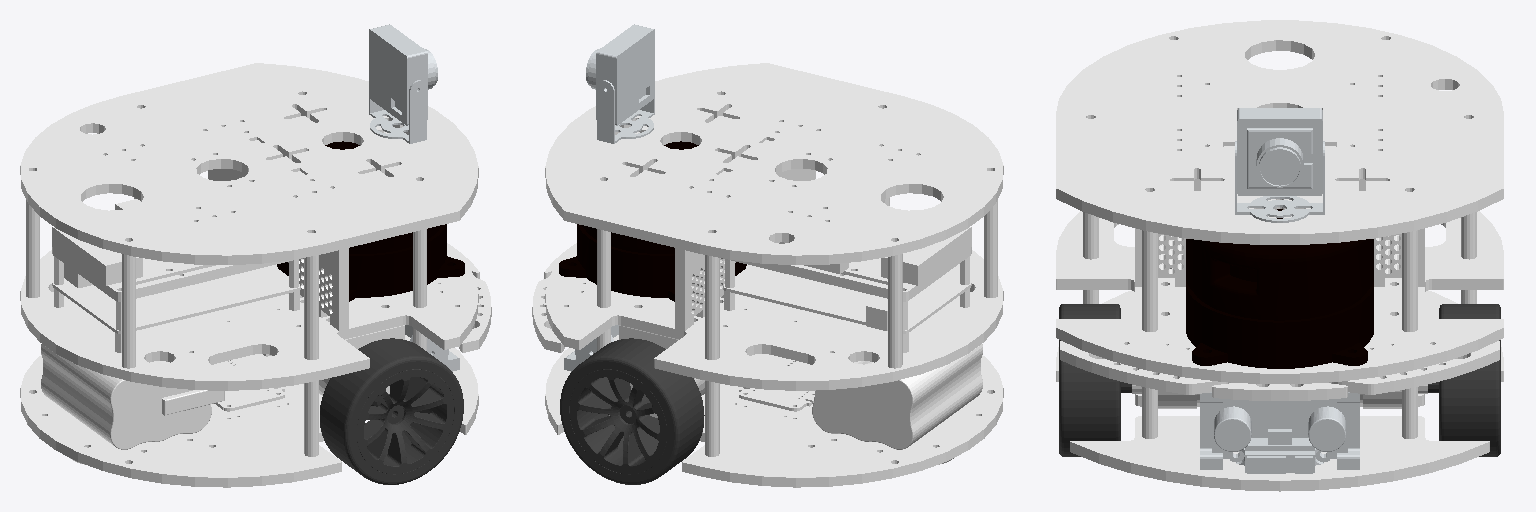
URDF robot description (robot_description):
<?xml version="1.0" encoding="utf-8"?>
<!-- This URDF was automatically created by SolidWorks to URDF Exporter! Originally created by [author] ([email redacted]) 
     Commit Version: 1.6.0-4-g7f85cfe  Build Version: 1.6.7995.38578
     For more information, please see http://wiki.ros.org/sw_urdf_exporter -->
<robot
  name="robot_description">
  <link name="base_footprint">
        <visual>
            <geometry>
                <sphere radius="0.001" />
            </geometry>
        </visual>
  </link>

  <link
    name="base_link">
    <inertial>
      <origin
        xyz="-0.038216 -8.44E-05 0.027327"
        rpy="0 0 0" />
      <mass
        value="1.4603" />
      <inertia
        ixx="0.0015601"
        ixy="-3.2373E-06"
        ixz="-5.9153E-14"
        iyy="0.0019288"
        iyz="9.6369E-14"
        izz="0.0032508" />
    </inertial>
    <visual>
      <origin
        xyz="0 0 0"
        rpy="0 0 0" />
      <geometry>
        <mesh
          filename="package://robot_description/meshes/base_link.STL" />
      </geometry>
      <material
        name="">
        <color
          rgba="1 1 1 1" />
      </material>
    </visual>
    <collision>
      <origin
        xyz="0 0 0"
        rpy="0 0 0" />
      <geometry>
        <mesh
          filename="package://robot_description/meshes/base_link.STL" />
      </geometry>
    </collision>
  </link>
  <joint name="base_link2base_footprint" type="fixed">
        <parent link="base_footprint" />
        <child link="base_link" />
        <origin xyz="0 0 0.05" />
  </joint>

  <link
    name="left wheel_Link">
    <inertial>
      <origin
        xyz="0 0.00038056 0"
        rpy="0 0 0" />
      <mass
        value="0.052388" />
      <inertia
        ixx="2.0994E-05"
        ixy="-4.4945E-23"
        ixz="-2.9089E-21"
        iyy="3.6342E-05"
        iyz="-7.6008E-22"
        izz="2.0994E-05" />
    </inertial>
    <visual>
      <origin
        xyz="0 0 0"
        rpy="0 0 0" />
      <geometry>
        <mesh
          filename="package://robot_description/meshes/left wheel_Link.STL" />
      </geometry>
      <material
        name="">
        <color
          rgba="0.29804 0.29804 0.29804 1" />
      </material>
    </visual>
    <collision>
      <origin
        xyz="0 0 0"
        rpy="0 0 0" />
      <geometry>
        <mesh
          filename="package://robot_description/meshes/left wheel_Link.STL" />
      </geometry>
    </collision>
  </link>
  <joint
    name="wheel_1_joint"
    type="continuous">
    <origin
      xyz="0 0.0805 0"
      rpy="0 0 0" />
    <parent
      link="base_link" />
    <child
      link="left wheel_Link" />
    <axis
      xyz="0 -1 0" />
  </joint>
  <link
    name="right wheel_Link">
    <inertial>
      <origin
        xyz="0 -0.000380563343778464 0"
        rpy="0 0 0" />
      <mass
        value="0.0523884928070869" />
      <inertia
        ixx="2.0993992477975E-05"
        ixy="1.04563423025786E-21"
        ixz="-4.90757686064805E-21"
        iyy="3.63419758974315E-05"
        iyz="-3.87238137038941E-22"
        izz="2.0993992477975E-05" />
    </inertial>
    <visual>
      <origin
        xyz="0 0 0"
        rpy="0 0 0" />
      <geometry>
        <mesh
          filename="package://robot_description/meshes/right wheel_Link.STL" />
      </geometry>
      <material
        name="">
        <color
          rgba="0.298039215686275 0.298039215686275 0.298039215686275 1" />
      </material>
    </visual>
    <collision>
      <origin
        xyz="0 0 0"
        rpy="0 0 0" />
      <geometry>
        <mesh
          filename="package://robot_description/meshes/right wheel_Link.STL" />
      </geometry>
    </collision>
  </link>
  <joint
    name="wheel_0_joint"
    type="continuous">
    <origin
      xyz="0 -0.0805 0"
      rpy="0 0 0" />
    <parent
      link="base_link" />
    <child
      link="right wheel_Link" />
    <axis
      xyz="0 1 0" />
  </joint>
  <link
    name="laser_link">
    <inertial>
      <origin
        xyz="-0.000209603604888892 0.000120725179128181 -0.0130198762076914"
        rpy="0 0 0" />
      <mass
        value="0.271699069265791" />
      <inertia
        ixx="0.000176953743407116"
        ixy="-9.81784129253812E-07"
        ixz="7.40933729651027E-07"
        iyy="0.000175815280510695"
        iyz="-4.25610950774227E-07"
        izz="0.000216450514269569" />
    </inertial>
    <visual>
      <origin
        xyz="0 0 0"
        rpy="0 0 0" />
      <geometry>
        <mesh
          filename="package://robot_description/meshes/laser_Link.STL" />
      </geometry>
      <material
        name="">
        <color
          rgba="0.0588235294117647 0.00784313725490196 0 1" />
      </material>
    </visual>
    <collision>
      <origin
        xyz="0 0 0"
        rpy="0 0 0" />
      <geometry>
        <mesh
          filename="package://robot_description/meshes/laser_Link.STL" />
      </geometry>
    </collision>
  </link>
  <joint
    name="laser_Joint"
    type="fixed">
    <origin
      xyz="0.030241 0 0.078"
      rpy="0 0 0" />
    <parent
      link="base_link" />
    <child
      link="laser_link" />
    <axis
      xyz="0 0 0" />
  </joint>
  <link
    name="imu_link">
    <inertial>
      <origin
        xyz="-0.0118048114611219 0.00476237507254301 0.0161629596094779"
        rpy="0 0 1.570795"/>
      <mass
        value="0.11536190896587" />
      <inertia
        ixx="4.23390940100757E-05"
        ixy="-5.04799743132961E-06"
        ixz="3.27071760564096E-06"
        iyy="0.000102102543007273"
        iyz="-1.42151378488866E-06"
        izz="0.000142119092712528" />
    </inertial>
    <visual>
      <origin
        xyz="0 0 0"
        rpy="0 0 0" />
      <geometry>
        <mesh
          filename="package://robot_description/meshes/imu_Link.STL" />
      </geometry>
      <material
        name="">
        <color
          rgba="1 1 1 1" />
      </material>
    </visual>
    <collision>
      <origin
        xyz="0 0 0"
        rpy="0 0 0" />
      <geometry>
        <mesh
          filename="package://robot_description/meshes/imu_Link.STL" />
      </geometry>
    </collision>
  </link>
  <joint
    name="imu_Joint"
    type="fixed">
    <origin
      xyz="-0.069143 -0.00060249 0.0496"
      rpy="0 0 0" />
    <parent
      link="base_link" />
    <child
      link="imu_link" />
    <axis
      xyz="0 0 0" />
  </joint>
  <link
    name="camera_Link">
    <inertial>
      <origin
        xyz="-0.0134865628133561 1.27245263181684E-05 -0.000996029858569822"
        rpy="0 0 0" />
      <mass
        value="0.051766418456575" />
      <inertia
        ixx="9.97264271995822E-06"
        ixy="2.08531930861835E-08"
        ixz="2.14894522402641E-08"
        iyy="6.12375111728941E-06"
        iyz="2.5961088858632E-08"
        izz="6.47430815164643E-06" />
    </inertial>
    <visual>
      <origin
        xyz="0 0 0"
        rpy="0 0 0" />
      <geometry>
        <mesh
          filename="package://robot_description/meshes/camera_Link.STL" />
      </geometry>
      <material
        name="">
        <color
          rgba="0.894117647058823 0.913725490196078 0.929411764705882 1" />
      </material>
    </visual>
    <collision>
      <origin
        xyz="0 0 0"
        rpy="0 0 0" />
      <geometry>
        <mesh
          filename="package://robot_description/meshes/camera_Link.STL" />
      </geometry>
    </collision>
  </link>
  <joint
    name="camera"
    type="fixed">
    <origin
      xyz="0.0655 0 0.13"
      rpy="0 0 0" />
    <parent
      link="base_link" />
    <child
      link="camera_Link" />
    <axis
      xyz="0 0 0" />
  </joint>
  <link
    name="ultrasonic_Link">
    <inertial>
      <origin
        xyz="-0.0140272334793631 -1.11605403516571E-05 -0.00464300862011404"
        rpy="0 0 0" />
      <mass
        value="0.0615432903089949" />
      <inertia
        ixx="1.27424335268755E-05"
        ixy="4.7683287909434E-09"
        ixz="-5.3359935632812E-07"
        iyy="5.84778747686444E-06"
        iyz="-2.54153829450142E-10"
        izz="1.01881337457794E-05" />
    </inertial>
    <visual>
      <origin
        xyz="0 0 0"
        rpy="0 0 0" />
      <geometry>
        <mesh
          filename="package://robot_description/meshes/ultrasonic_Link.STL" />
      </geometry>
      <material
        name="">
        <color
          rgba="0.894117647058823 0.913725490196078 0.929411764705882 1" />
      </material>
    </visual>
    <collision>
      <origin
        xyz="0 0 0"
        rpy="0 0 0" />
      <geometry>
        <mesh
          filename="package://robot_description/meshes/ultrasonic_Link.STL" />
      </geometry>
    </collision>
  </link>
  <joint
    name="ultrasonic_Joint"
    type="fixed">
    <origin
      xyz="0.072976 0 0.00825"
      rpy="0 0 0" />
    <parent
      link="base_link" />
    <child
      link="ultrasonic_Link" />
    <axis
      xyz="1 0 0" />
    <limit
      lower="0"
      upper="0"
      effort="0"
      velocity="0" />
  </joint>
</robot>

--- What the picture shows (computed from the rendered views, not written in the file) ---
Views: 3 orthographic renders of the robot side by side, from view 1: azimuth 30°, elevation 25°; view 2: azimuth 150°, elevation 25°; view 3: azimuth 270°, elevation 25°.
Model robot_description with 8 links and 7 joints (2 continuous, 5 fixed), rooted at base_footprint, posed every joint at zero.
Visible links, largest first — view 1: base_link, right wheel_Link, imu_link, camera_Link, laser_link, ultrasonic_Link; view 2: base_link, left wheel_Link, imu_link, camera_Link, laser_link, ultrasonic_Link; view 3: base_link, laser_link, ultrasonic_Link, camera_Link, right wheel_Link, left wheel_Link.
Boxes of the visible links, left/top/right/bottom form: base_link: left=20, top=63, right=491, bottom=487; right wheel_Link: left=320, top=338, right=463, bottom=484; imu_link: left=52, top=199, right=300, bottom=352; camera_Link: left=369, top=24, right=437, bottom=143; laser_link: left=277, top=141, right=464, bottom=301; ultrasonic_Link: left=405, top=325, right=459, bottom=371; base_link: left=532, top=63, right=1003, bottom=487; left wheel_Link: left=560, top=338, right=704, bottom=484; imu_link: left=723, top=227, right=971, bottom=352; camera_Link: left=586, top=24, right=654, bottom=143; laser_link: left=559, top=141, right=746, bottom=301; ultrasonic_Link: left=564, top=325, right=618, bottom=371; base_link: left=1056, top=20, right=1503, bottom=491; laser_link: left=1186, top=209, right=1373, bottom=368; ultrasonic_Link: left=1200, top=392, right=1359, bottom=473; camera_Link: left=1235, top=108, right=1324, bottom=222; right wheel_Link: left=1059, top=304, right=1131, bottom=456; left wheel_Link: left=1428, top=304, right=1500, bottom=456.
Size in the robot's own frame: 0.2206 by 0.19 by 0.199 metres.
Meshes: 7 distinct files referenced, 7 mesh visuals loaded (7 binary STL).